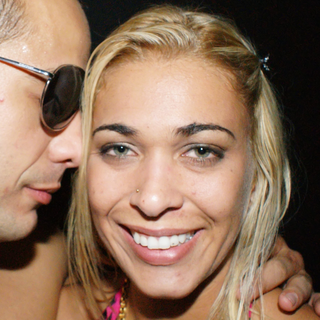eye: (178, 140, 228, 165), (95, 139, 141, 163)
